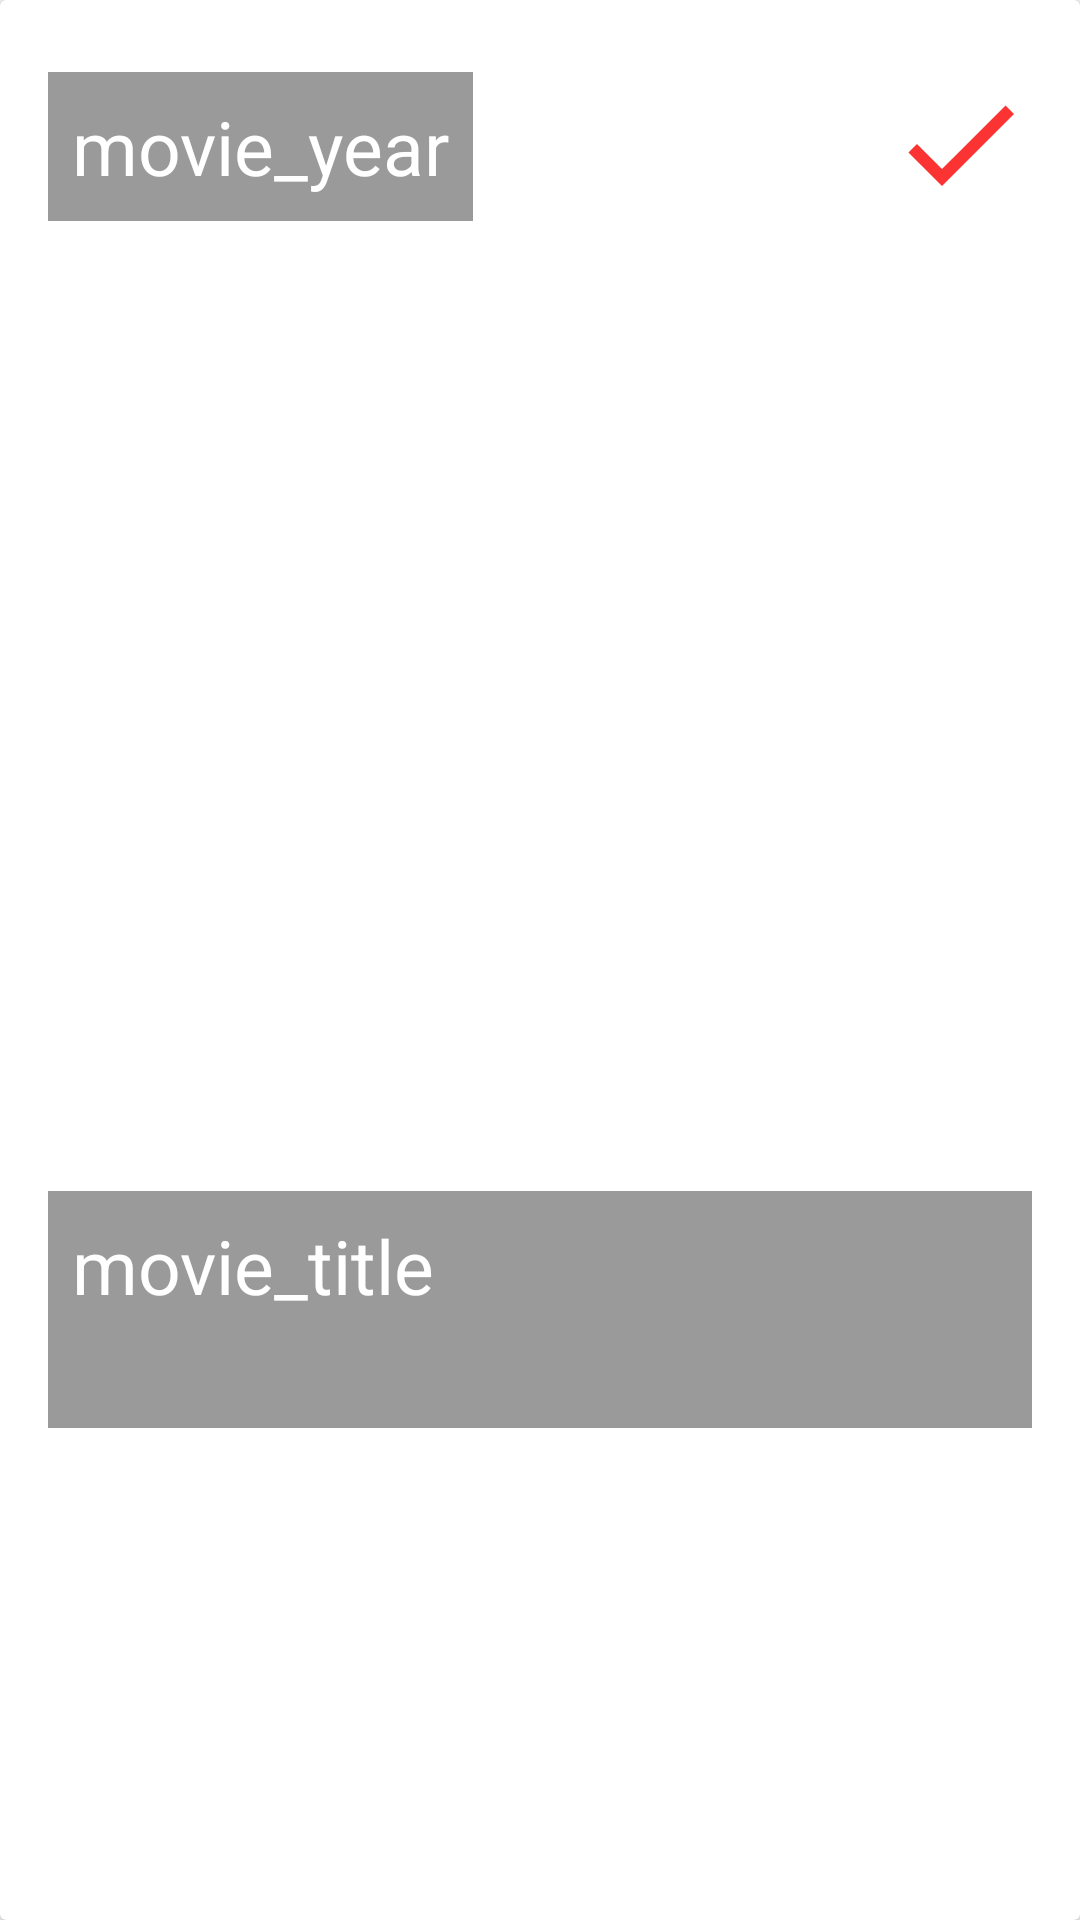

Icon click points for this 1080*1920 phone screenshot, format point (x, y):
check: point (961, 145)
